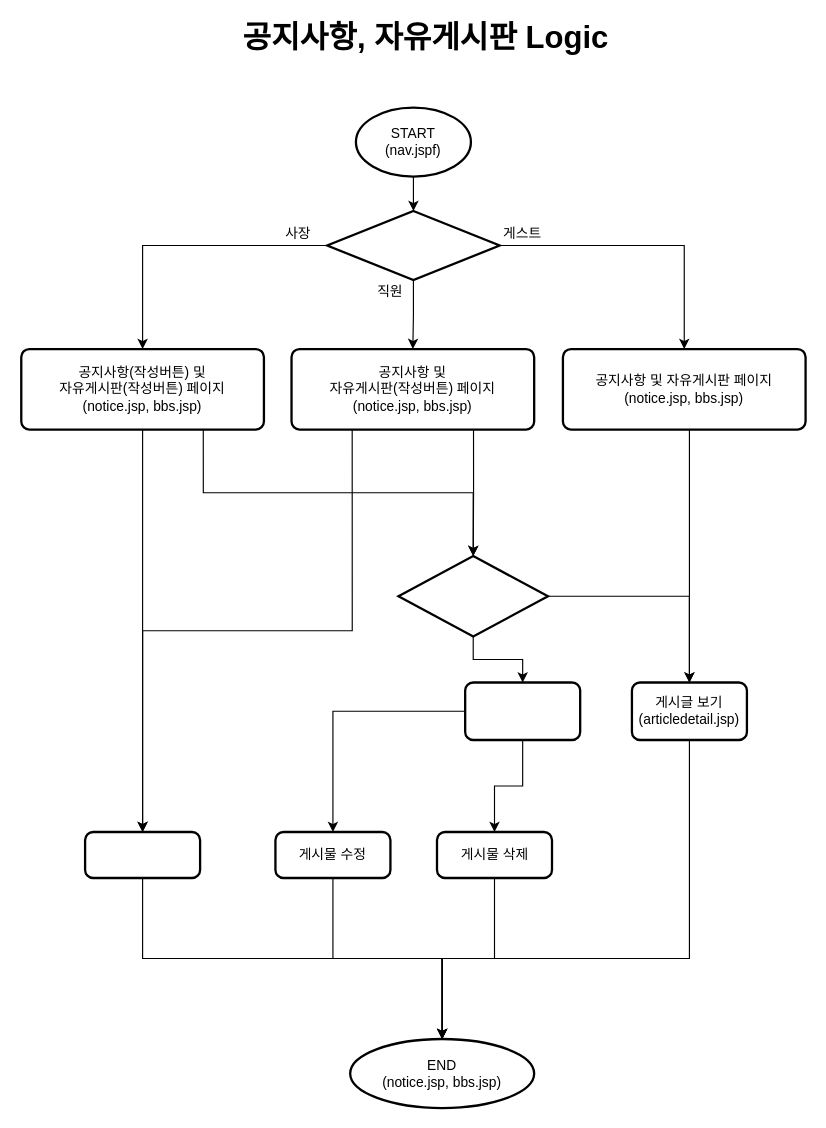
This 826x1128 diagram has some shape labels left out. The box of each missing label's shape, as (x1, y1, x2, y2) in pixels:
게시글 보기 (수정, 삭제버튼) (articledetail.jsp): (463, 681, 581, 741)
게시물 생성: (83, 830, 201, 879)
자신이 작성한 게시물인가?: (397, 554, 549, 637)
직책이 무엇인가?: (325, 209, 500, 281)
